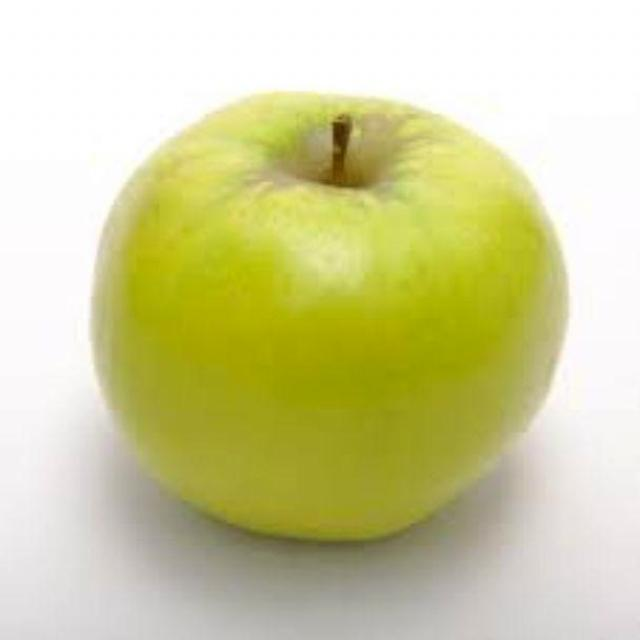HEALTHY: (76, 67, 598, 555)
